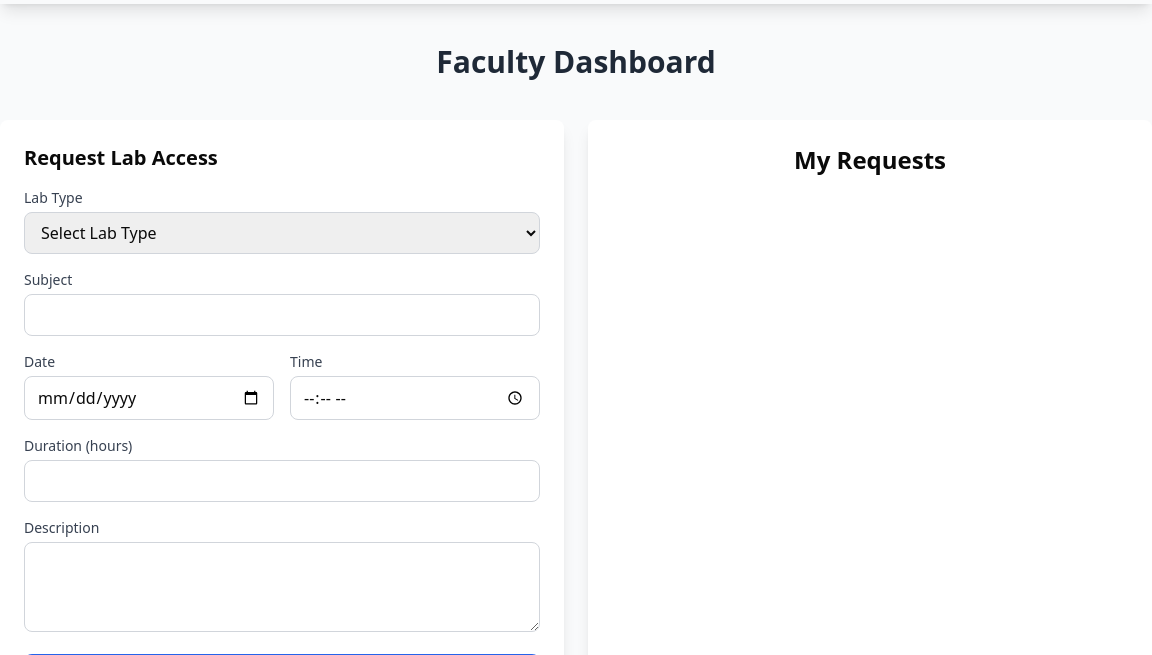
it: Lab Booking System › prevents booking outside allowed time slots
Select "Computer Lab" in the dropdown at (282, 233), box x1=24 y1=212 x2=540 y2=254
Type "Software Engineering" into the field at (282, 315), box x1=24 y1=294 x2=540 y2=336
Type "2025-04-01" into the date field at (149, 398), box x1=24 y1=376 x2=274 y2=420
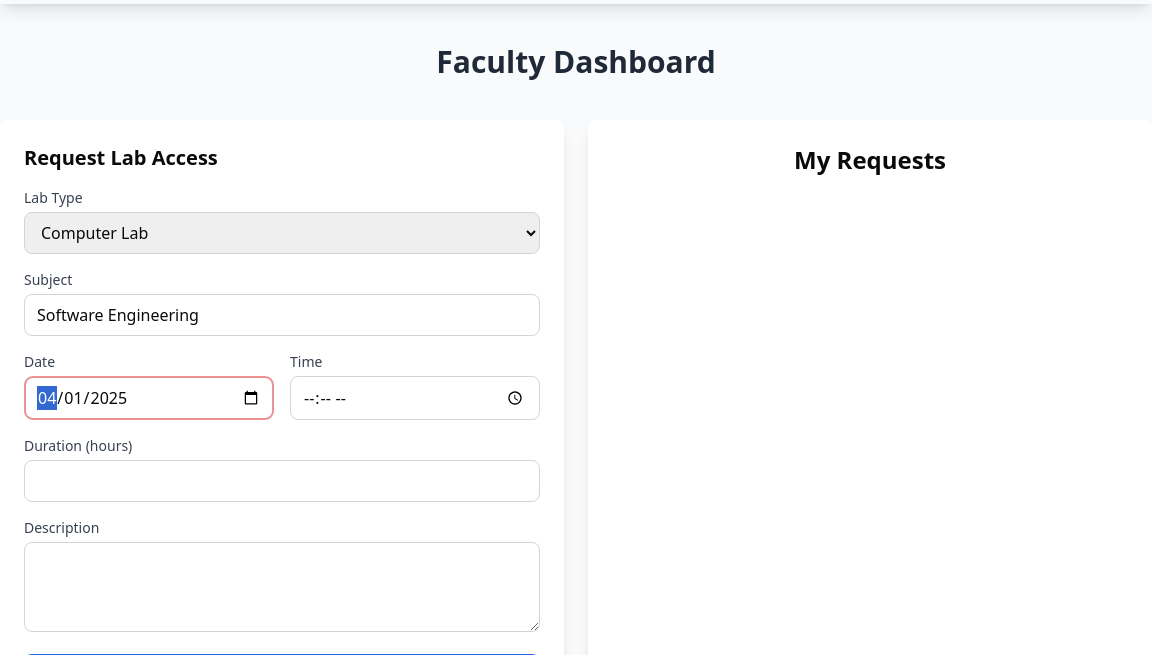
Type "07:30" into the time field at (415, 398), box x1=290 y1=376 x2=540 y2=420
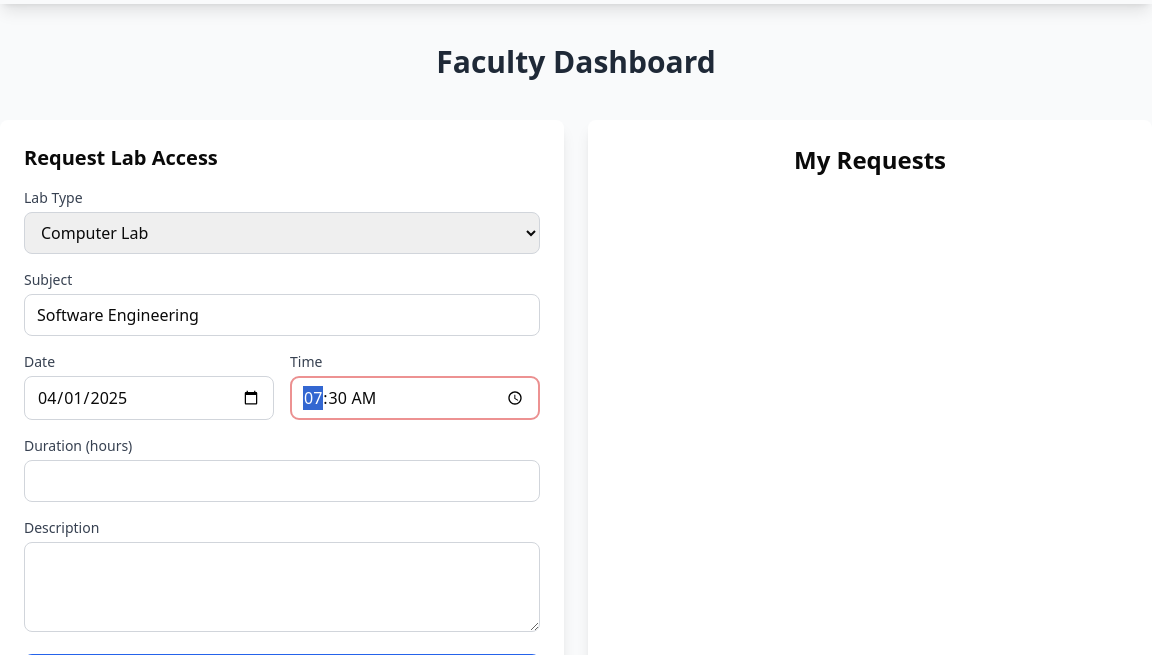
Type "2" into the number field at (282, 481), box x1=24 y1=460 x2=540 y2=502
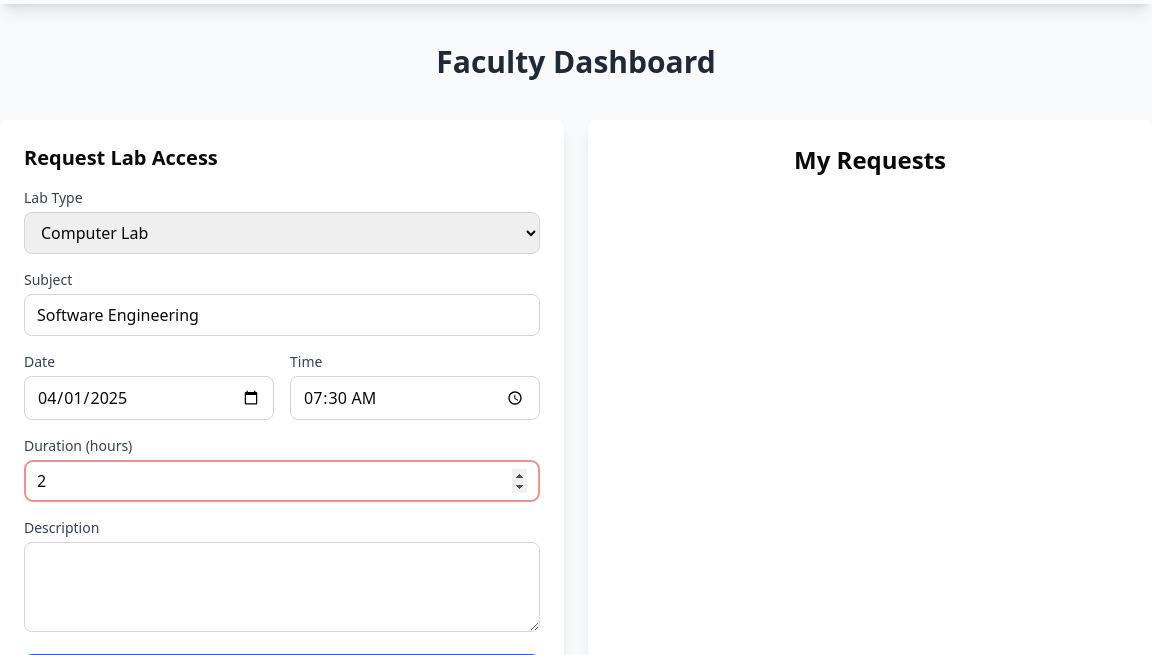
Type "This booking should fail due to time restrictions" into the text box at (282, 587), box x1=24 y1=542 x2=540 y2=632
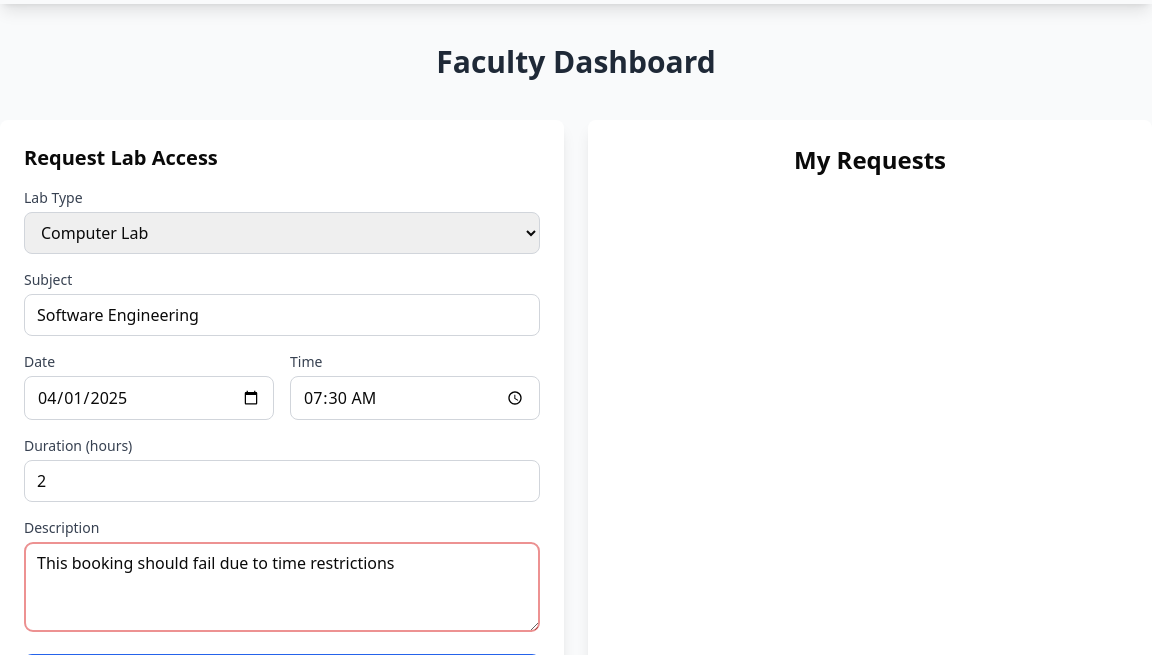
Scroll
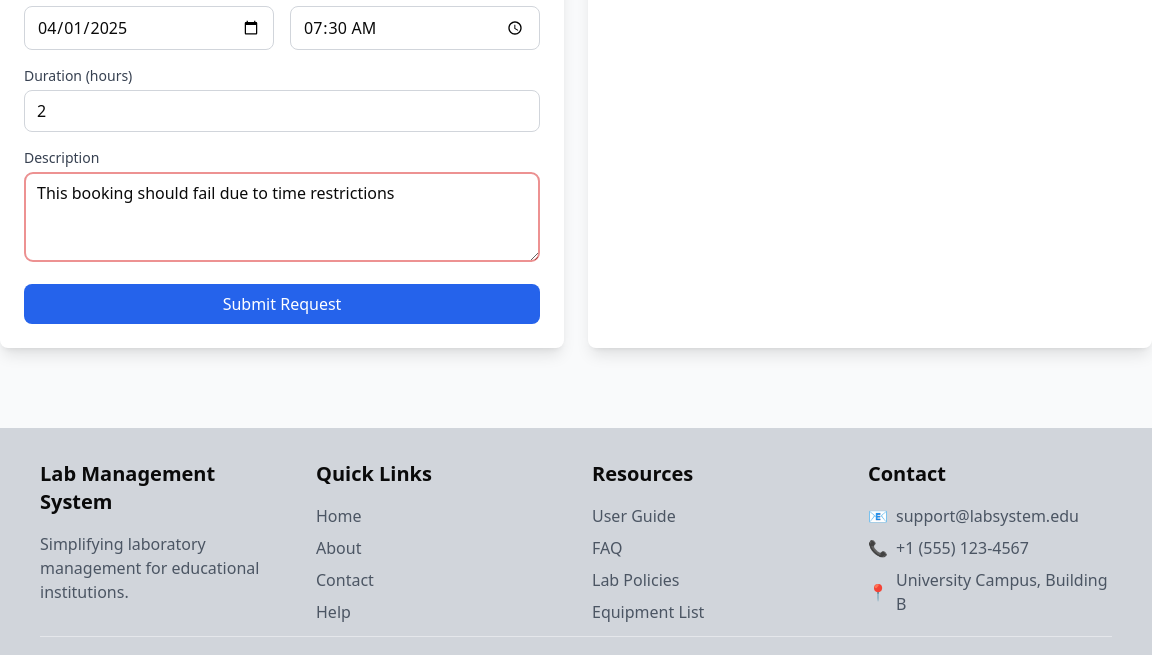
Click the submit button at (282, 304), box x1=24 y1=284 x2=540 y2=324
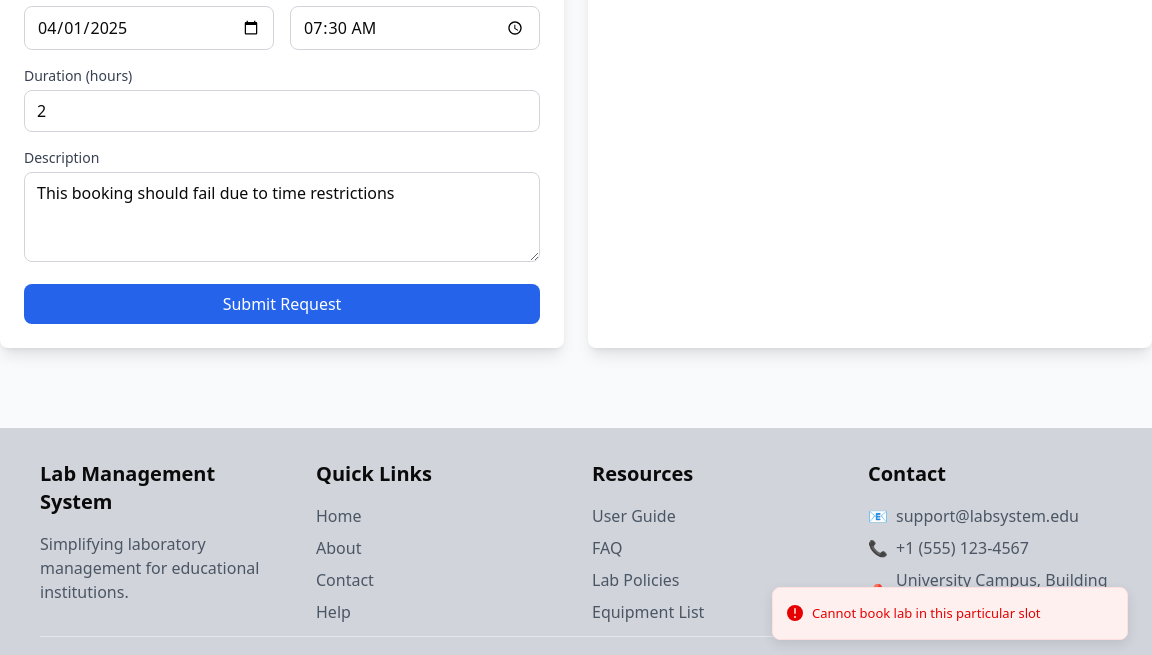
expect the text "Cannot book lab in this particular slot" is shown: met, box x1=812 y1=604 x2=1041 y2=623
